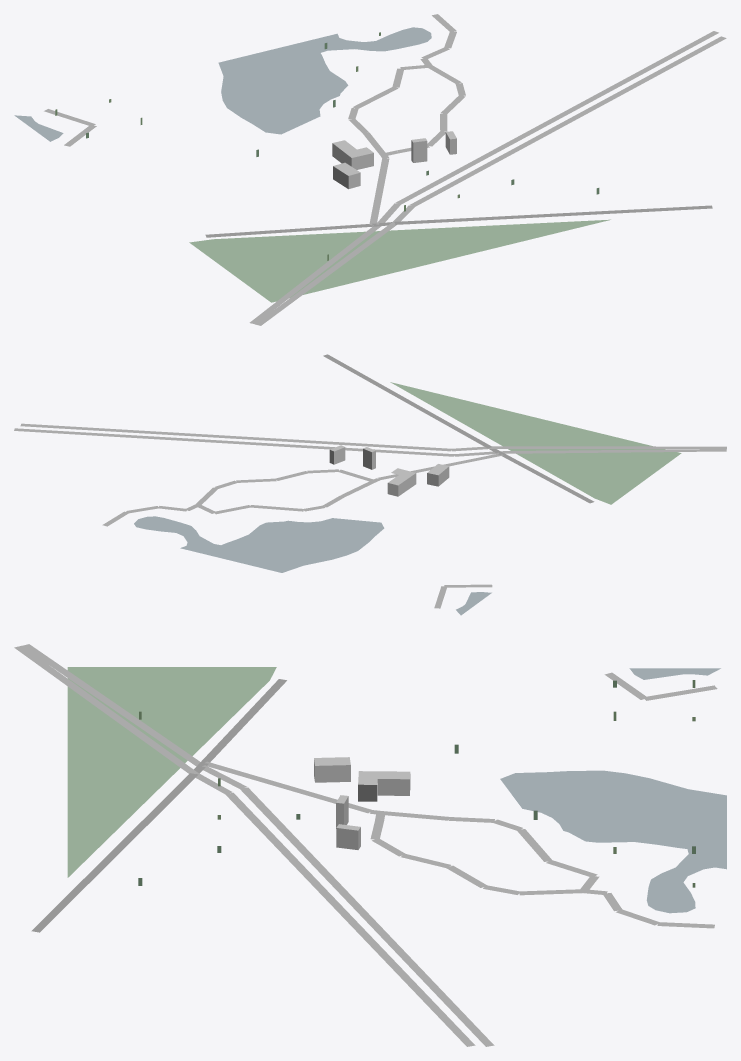
3 views of the same model, one above another, from view 1: azimuth 30°, elevation 25°; view 2: azimuth 150°, elevation 25°; view 3: azimuth 270°, elevation 25° (orthographic). The views are drawn at different scales.
Bounding box in the file's own units: 723 × 23.55 × 541.
